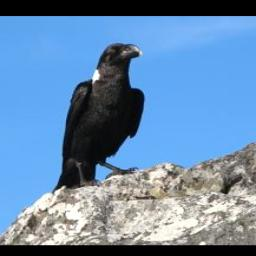Crow: (51, 39, 147, 195)
